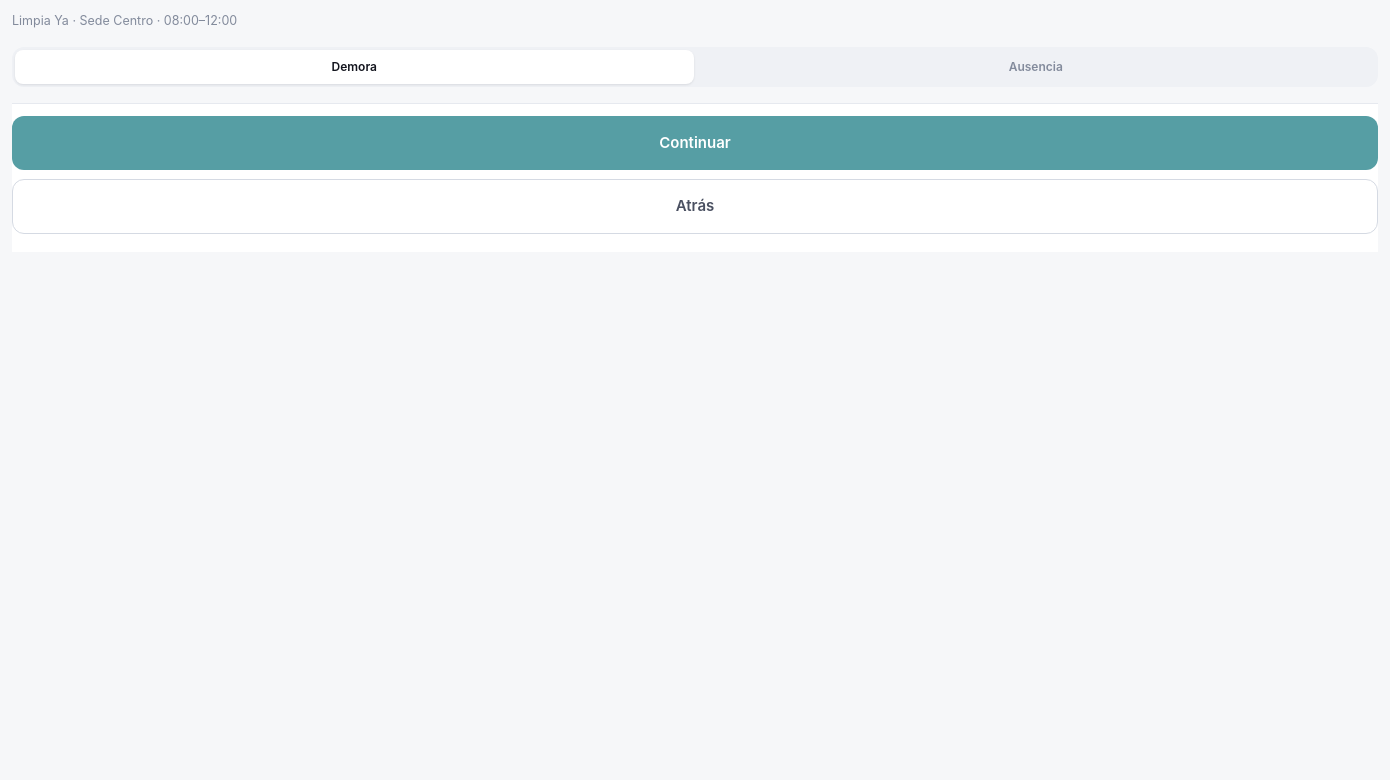
NotifyPage (EMP-12) › exige texto cuando el motivo de ausencia es "otro"
Click the radio button labelled "Ausencia" at [1036, 67], box [696, 50, 1375, 84]
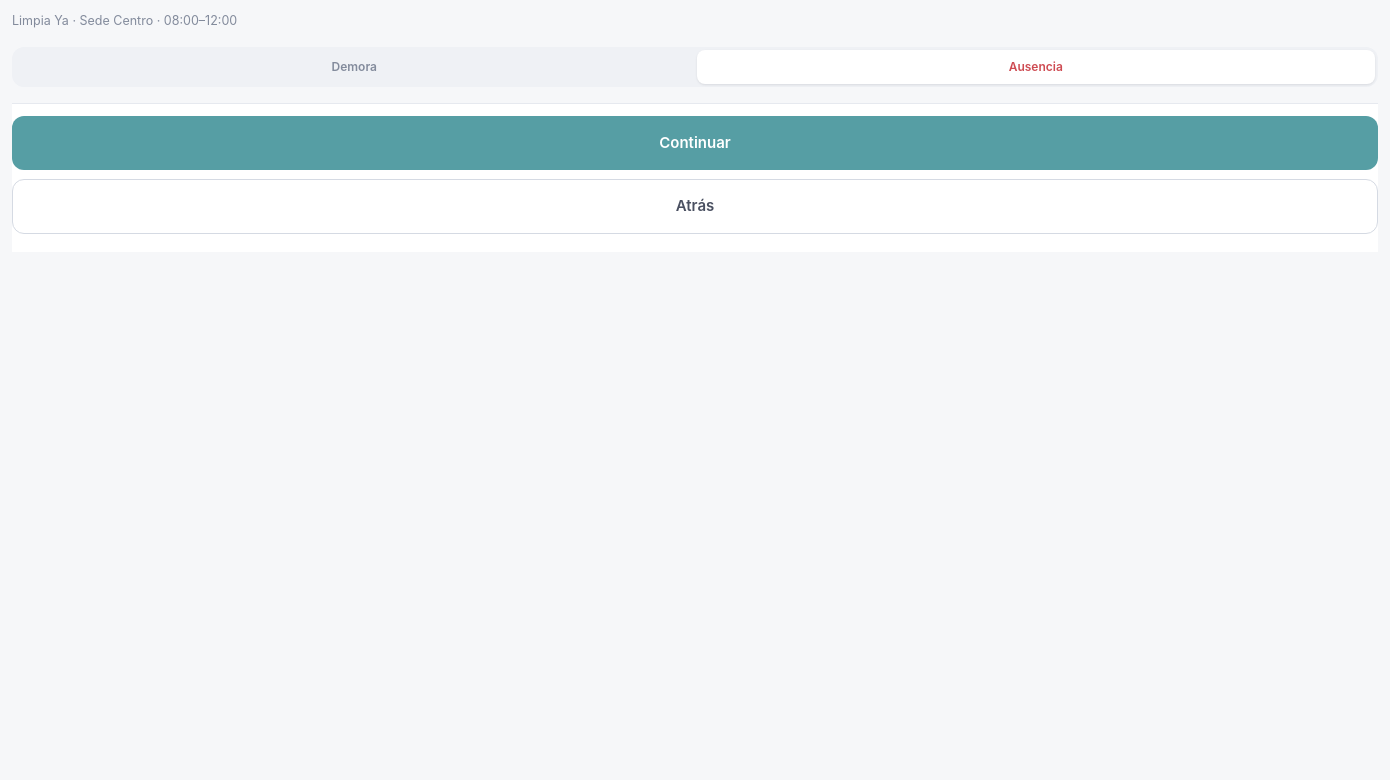
Click the button "Continuar" at [695, 143], box [12, 116, 1378, 170]
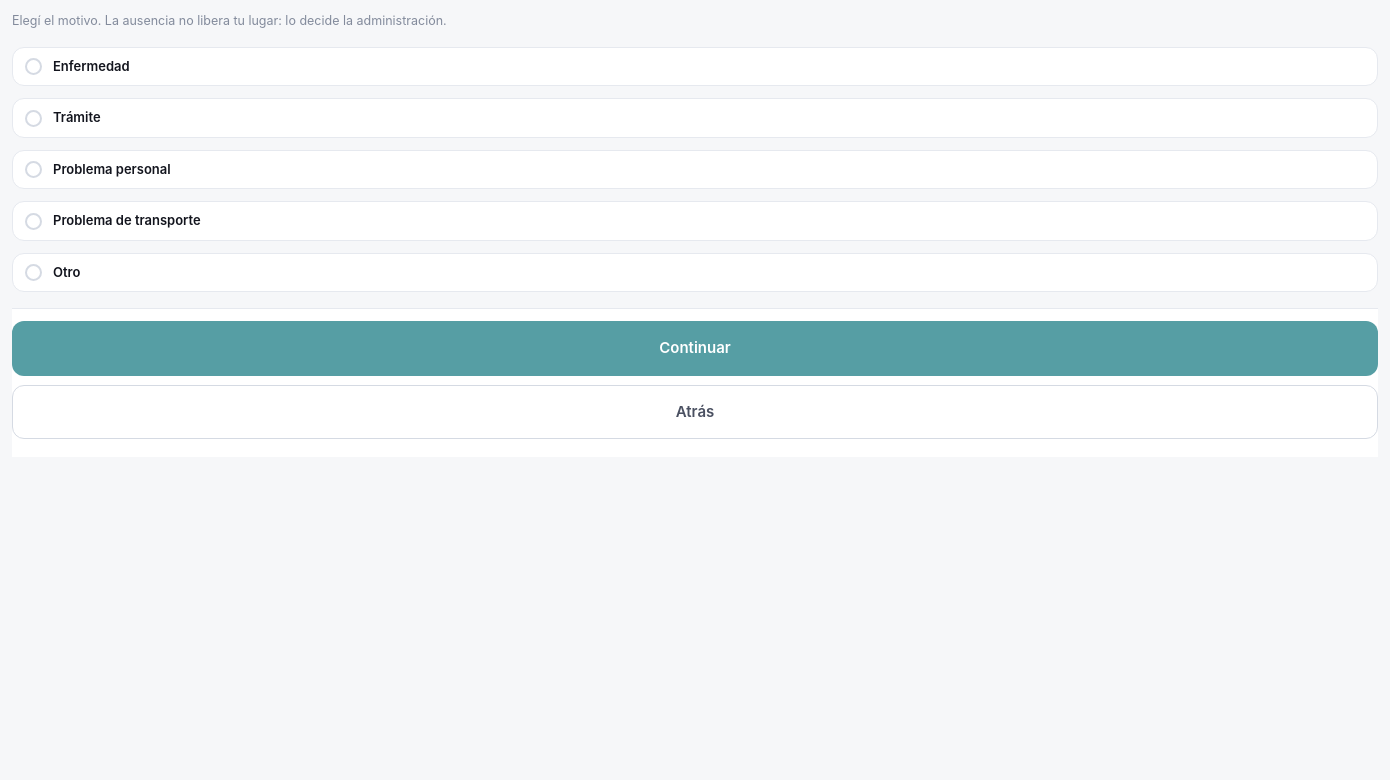
Click the radio button named "Otro" next to "Otro" at [34, 272], box [25, 264, 42, 281]
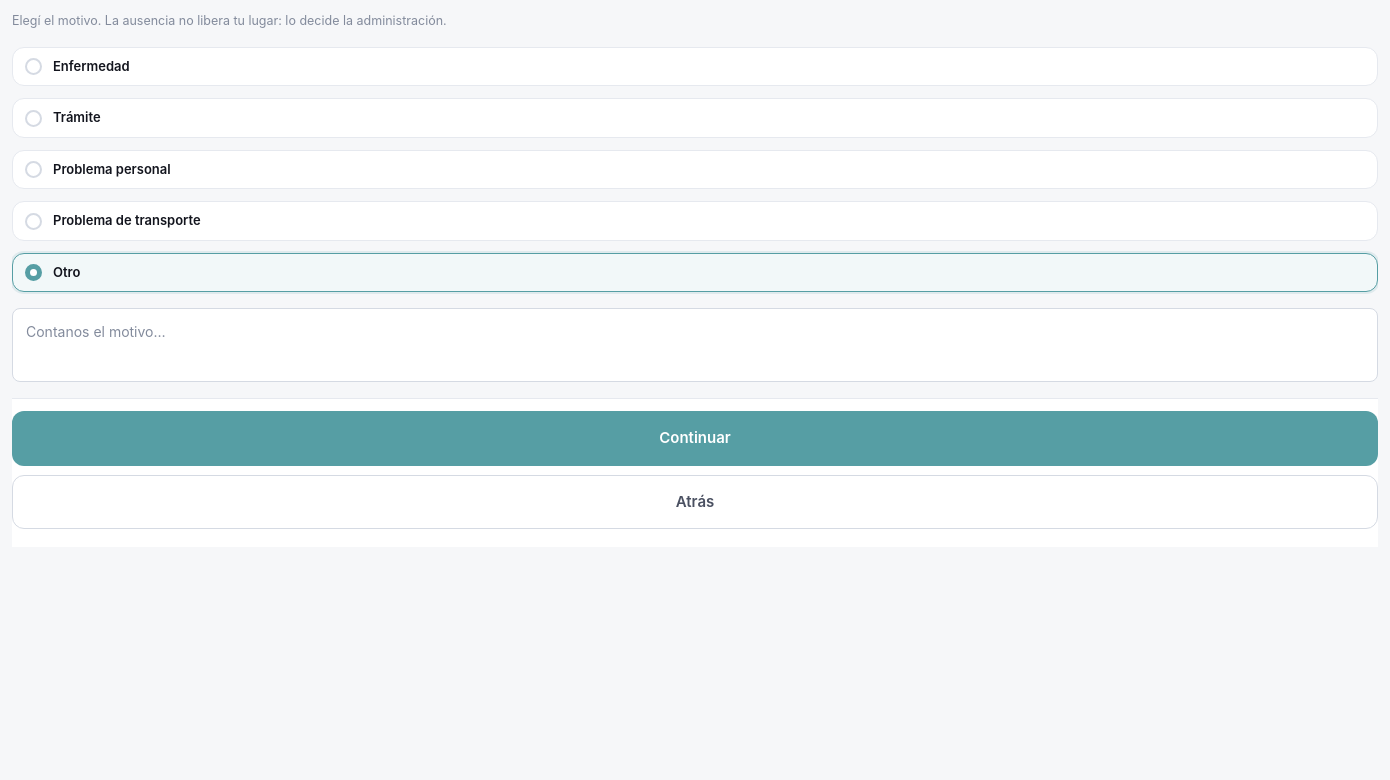
Click the button "Continuar" at [695, 439], box [12, 411, 1378, 466]
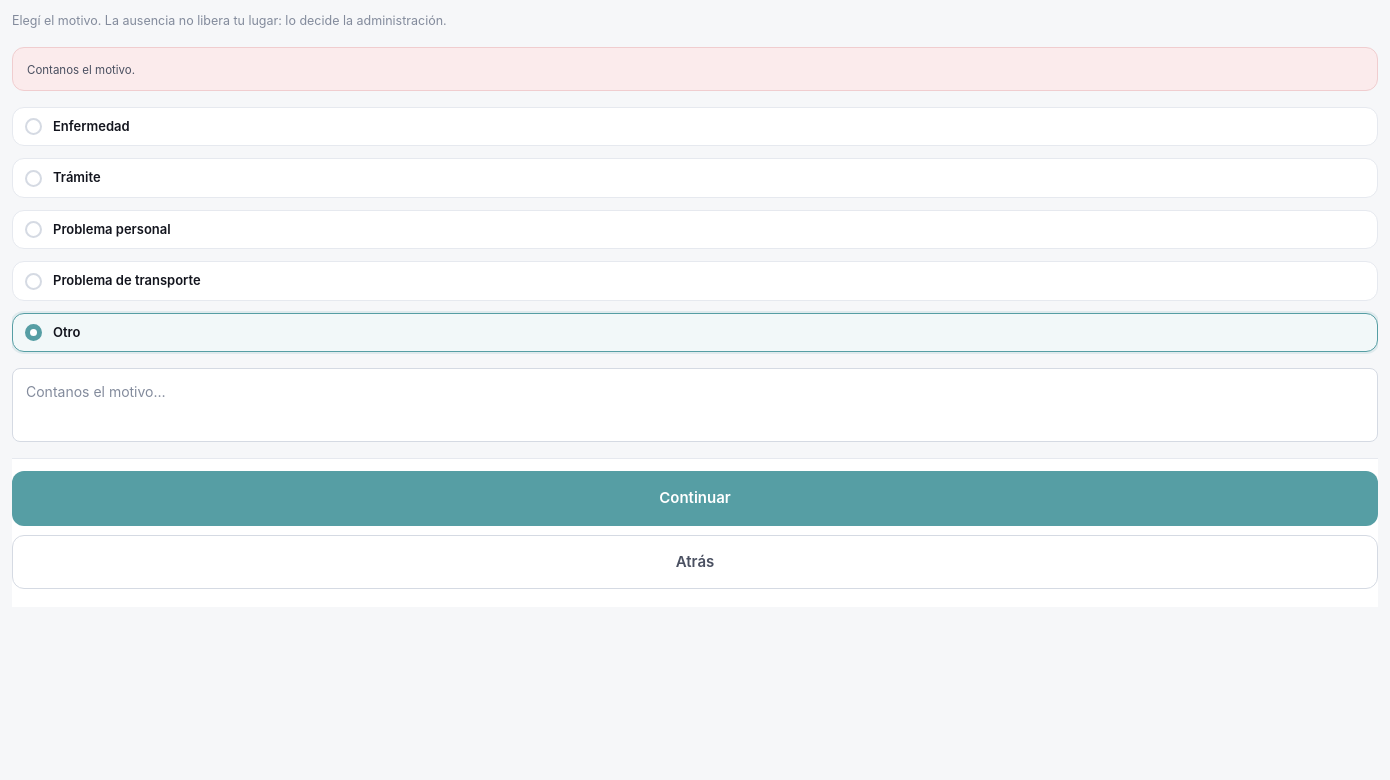
Expected: the text "Contanos el motivo." is shown, [27, 62, 135, 78]
